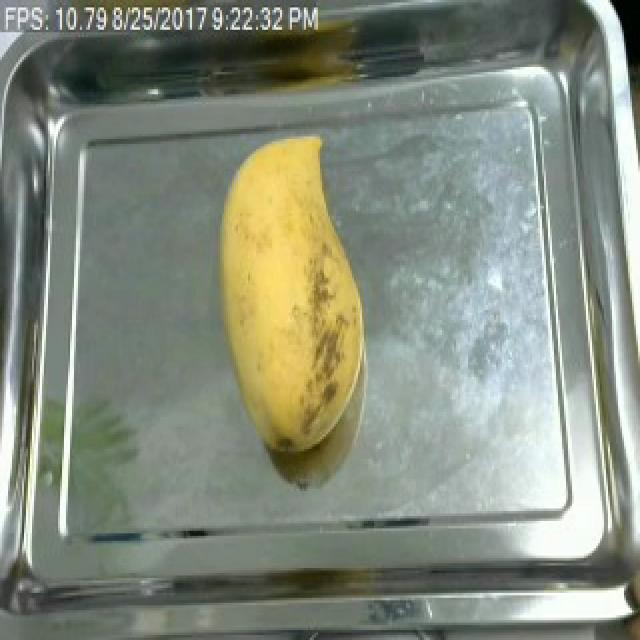fruit: (200, 126, 380, 469)
